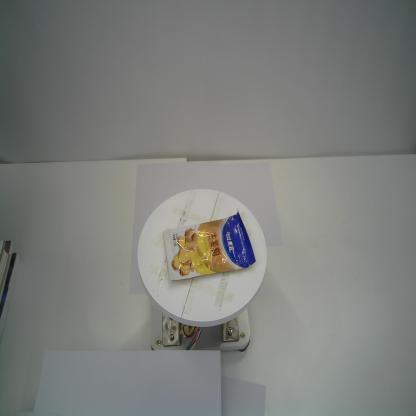Seasoner: (163, 208, 256, 281)
